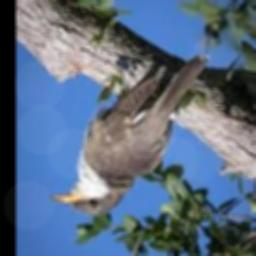Cuckoo: (49, 54, 209, 214)
